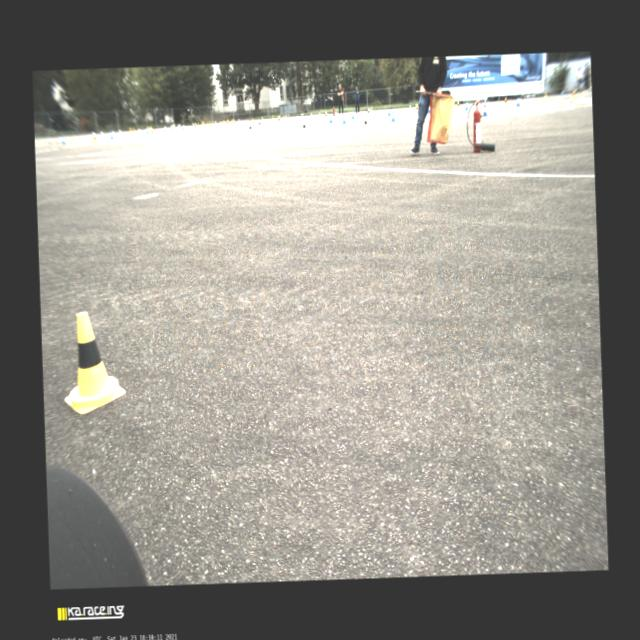blue_cone: (482, 102, 488, 116), (390, 110, 396, 121), (514, 96, 520, 106), (328, 112, 333, 122), (342, 112, 346, 124), (60, 136, 66, 144), (386, 106, 391, 115), (350, 110, 355, 118), (464, 100, 468, 110), (334, 110, 338, 119), (110, 130, 114, 138), (118, 129, 122, 134), (100, 130, 103, 136), (112, 130, 115, 136), (170, 124, 173, 130), (560, 90, 563, 95), (146, 127, 148, 134), (164, 125, 166, 132), (138, 127, 140, 133), (214, 120, 217, 124), (408, 104, 411, 108), (182, 124, 184, 129), (177, 124, 179, 128), (178, 123, 180, 127), (192, 122, 194, 126), (261, 116, 263, 120), (285, 114, 287, 118), (300, 112, 302, 116), (238, 118, 240, 121), (310, 112, 312, 115), (319, 112, 321, 115), (369, 108, 370, 111)
yellow_cone: (61, 310, 126, 414), (300, 120, 307, 134), (362, 116, 368, 130), (570, 88, 576, 100), (248, 122, 253, 134), (257, 118, 262, 130), (479, 111, 484, 123), (92, 133, 97, 144), (502, 97, 508, 106), (456, 100, 460, 110), (413, 104, 418, 112), (324, 110, 328, 119), (543, 90, 547, 98), (150, 126, 153, 136), (128, 126, 132, 132), (367, 108, 370, 116), (222, 118, 225, 125), (232, 118, 235, 125), (205, 120, 208, 126), (278, 115, 280, 124), (194, 122, 196, 130), (226, 118, 228, 126), (582, 88, 586, 92), (146, 125, 149, 130), (172, 123, 175, 128), (370, 106, 372, 112), (132, 127, 134, 132), (208, 120, 210, 125), (252, 116, 254, 121), (272, 114, 274, 119), (414, 103, 416, 108), (202, 122, 204, 126), (211, 120, 213, 124), (283, 114, 285, 118), (288, 114, 290, 118), (302, 112, 304, 116), (197, 121, 198, 126), (231, 118, 232, 123), (201, 120, 202, 124)
